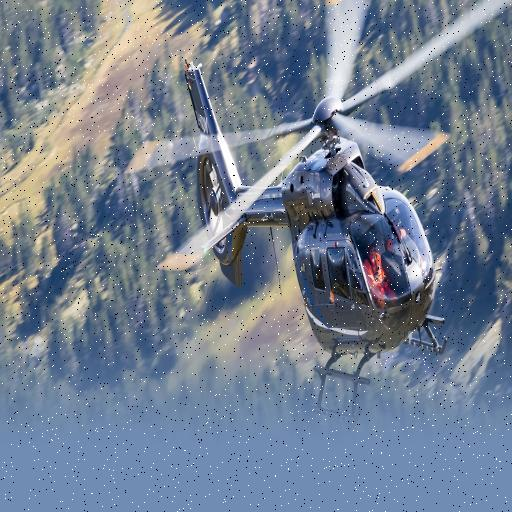helicopter: (141, 1, 512, 428)
